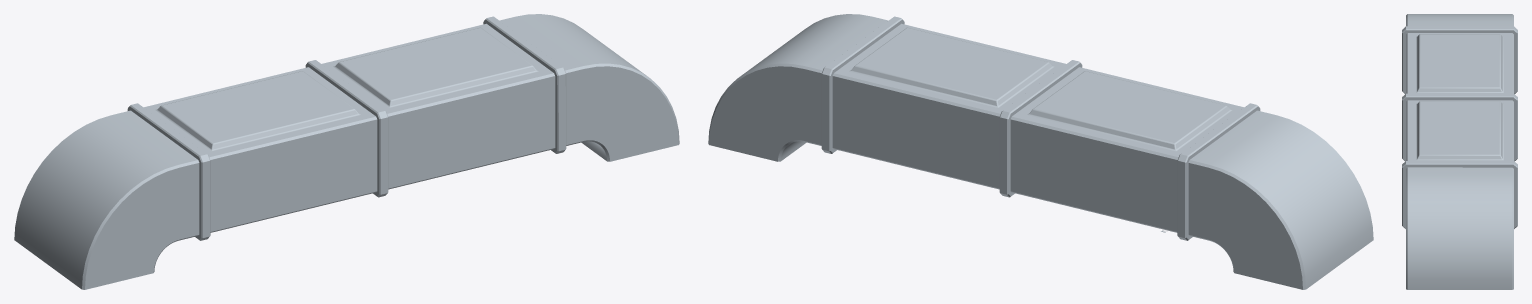
Rendered from duct_1.fbx.
3 views of the same model, side by side, from view 1: azimuth 30°, elevation 25°; view 2: azimuth 150°, elevation 25°; view 3: azimuth 270°, elevation 25° (orthographic). The views are drawn at different scales.
Visible parts, largest first — view 1: rooftop_01_Building_Roof_Collection_3_0; view 2: rooftop_01_Building_Roof_Collection_3_0; view 3: rooftop_01_Building_Roof_Collection_3_0.
Part boxes in pixels (box(x1,y1,x2,y2)): rooftop_01_Building_Roof_Collection_3_0: box(14, 14, 679, 289); rooftop_01_Building_Roof_Collection_3_0: box(708, 14, 1373, 289); rooftop_01_Building_Roof_Collection_3_0: box(1402, 14, 1517, 289).
Bounding box in the file's own units: 19.53 × 3.32 × 4.23.
1 material, 1 textured.
